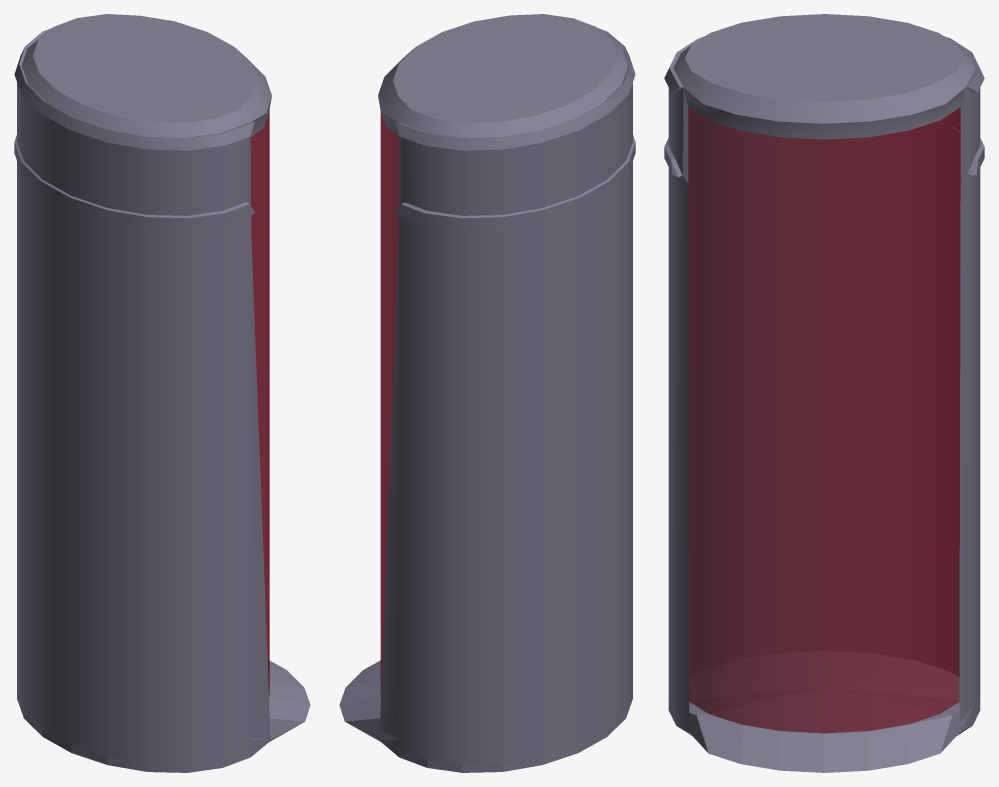
Rendered from SuitContainer.fbx.
3 renders of one model, left to right at view 1: azimuth 30°, elevation 25°; view 2: azimuth 150°, elevation 25°; view 3: azimuth 270°, elevation 25°, orthographic.
Parts seen in each view (by area): view 1: pCylinder1; view 2: pCylinder1; view 3: pCylinder1.
Part boxes in pixels (<box>): pCylinder1: <box>14,14,310,772</box>; pCylinder1: <box>339,14,635,772</box>; pCylinder1: <box>664,14,984,772</box>.
Bounding box in the file's own units: 2.65 × 6.59 × 2.94.
